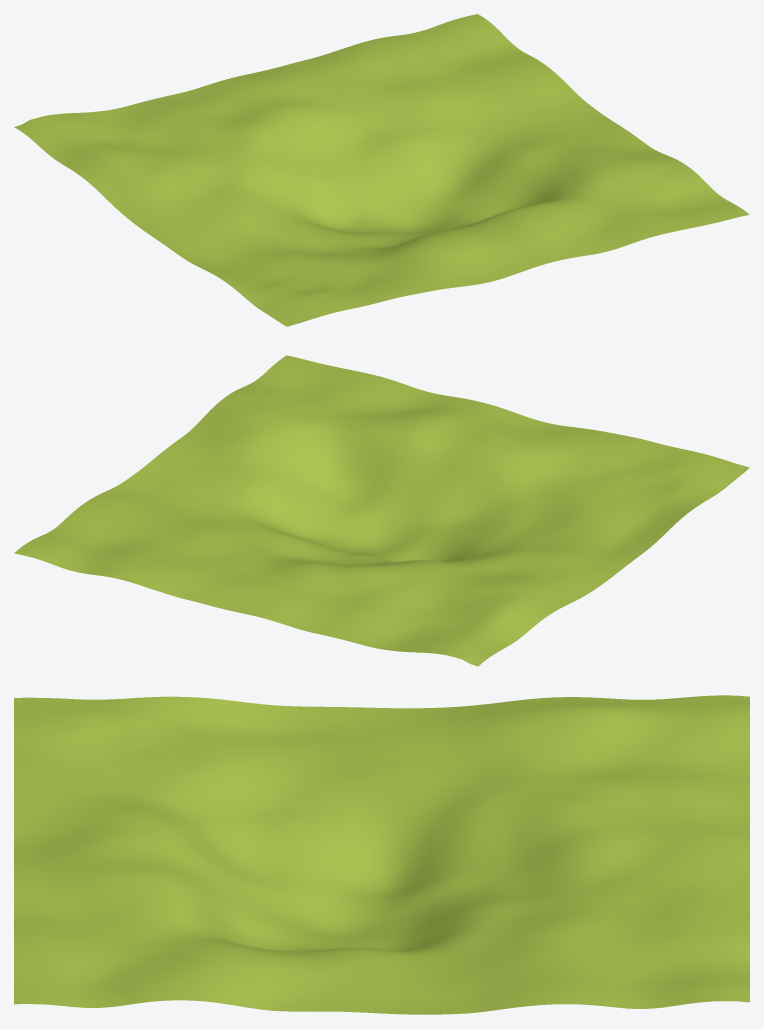
File: bosse_neg2.fbx
3 views of the same model, one above another, from view 1: azimuth 30°, elevation 25°; view 2: azimuth 150°, elevation 25°; view 3: azimuth 270°, elevation 25° (orthographic). The views are drawn at different scales.
Visible parts, largest first — view 1: bosse_neg2; view 2: bosse_neg2; view 3: bosse_neg2.
Part boxes in pixels (<box>): bosse_neg2: <box>14,14,749,326</box>; bosse_neg2: <box>14,355,749,666</box>; bosse_neg2: <box>14,695,749,1014</box>.
Size of the model in its own units: 709 by 83.66 by 720.
